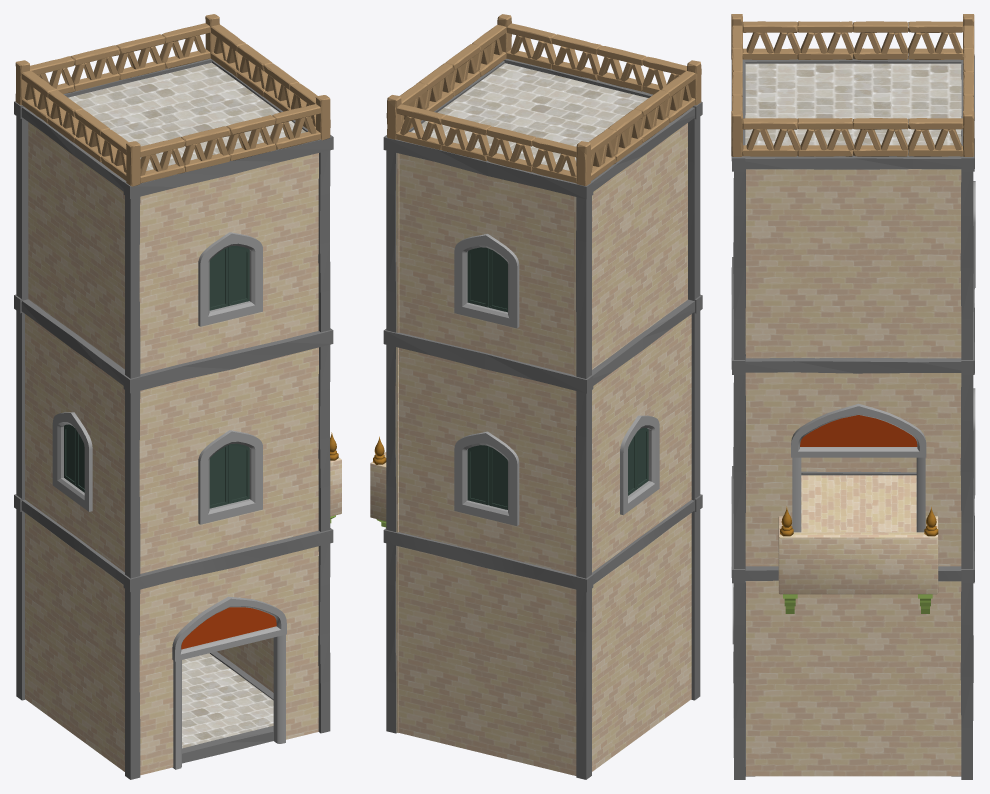
File: SM_house_desert_small_02.fbx
3 renders of one model, left to right at view 1: azimuth 30°, elevation 25°; view 2: azimuth 150°, elevation 25°; view 3: azimuth 270°, elevation 25°, orthographic. The views are drawn at different scales.
Parts seen in each view (by area): view 1: Object33150; view 2: Object33150; view 3: Object33150.
Part boxes in pixels (x1,y1,x2,y2): Object33150: (14, 14, 341, 779); Object33150: (370, 14, 702, 779); Object33150: (731, 14, 975, 779).
Bounding box in the file's own units: 213 × 549 × 183.
